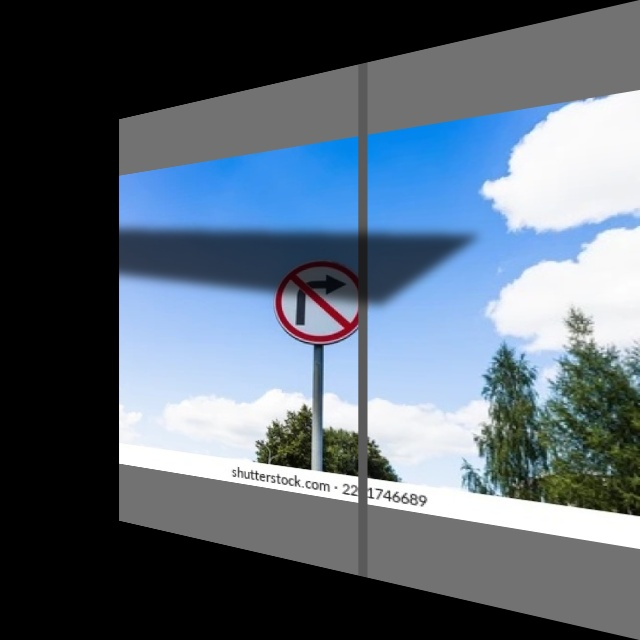Right_Turn_Prohibited: (274, 256, 367, 348)
